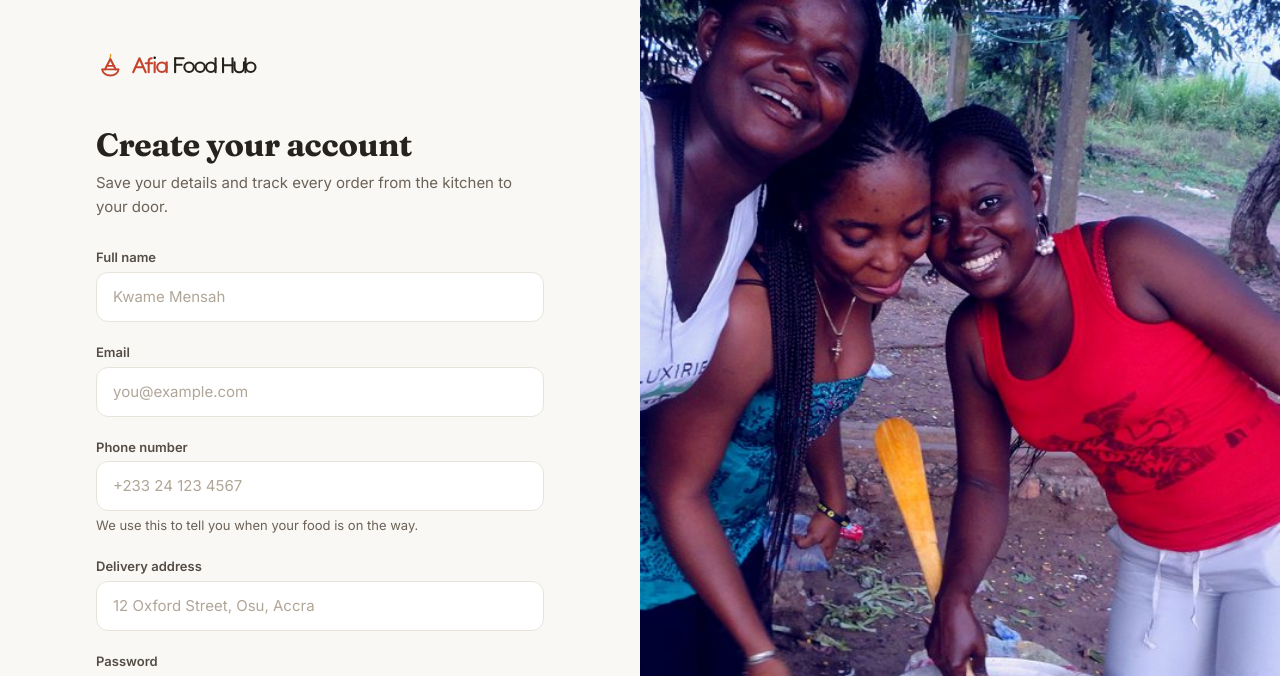
Test case: SignupPage › refuses a password that does not meet the rules
Step 1. Type "Test Customer" into the field labelled "Full name" → (320, 297), box [96,272,544,322]
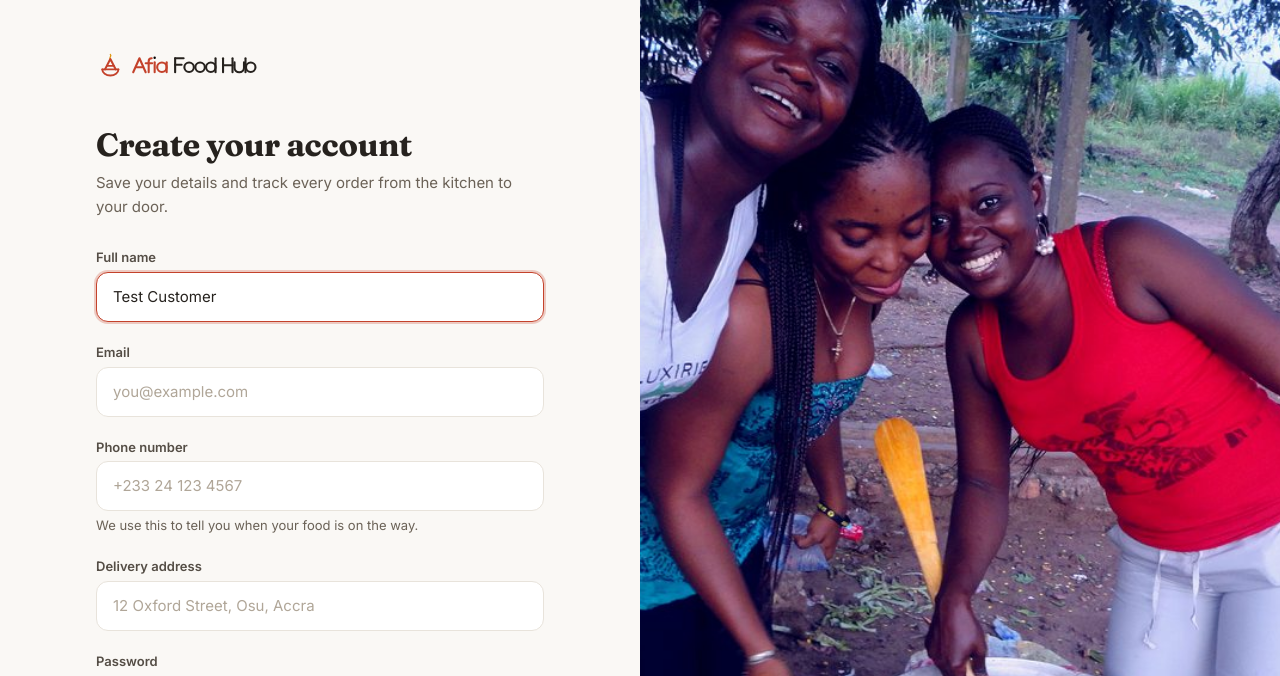
Step 2. Type "customer@example.test" into the field labelled "Email" → (320, 392), box [96,367,544,417]
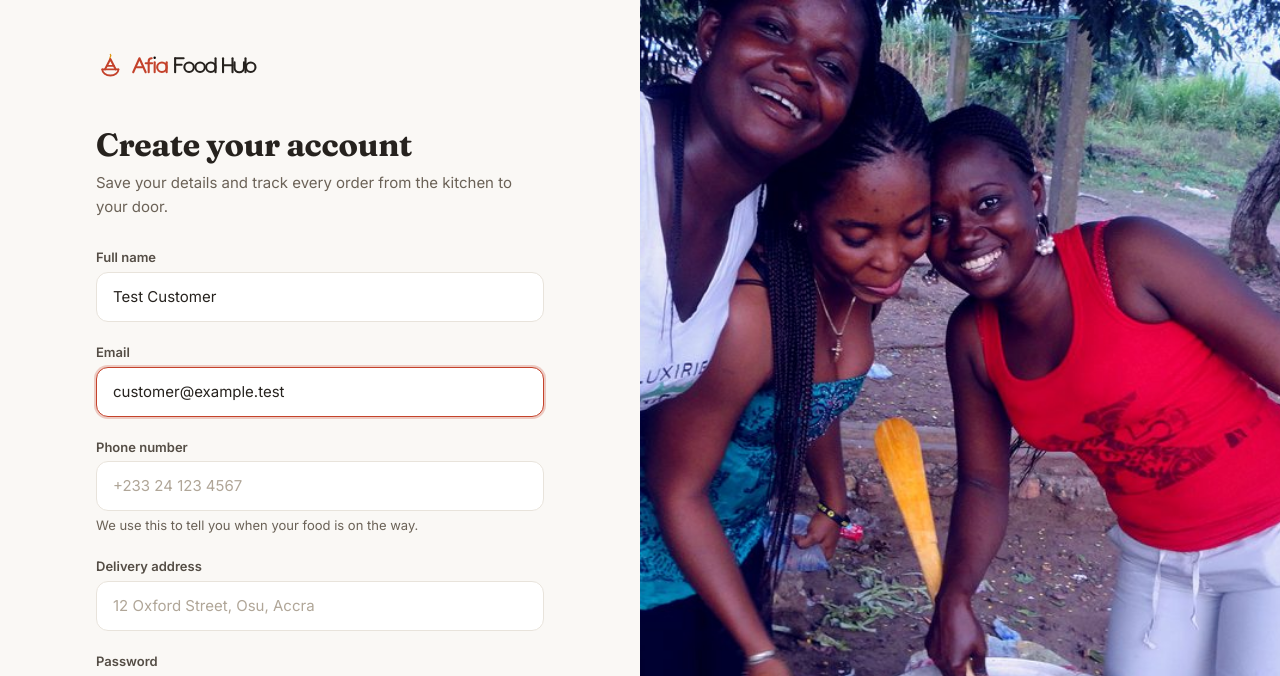
Step 3. Type "0241234567" into the field labelled "Phone number" → (320, 486), box [96,461,544,511]
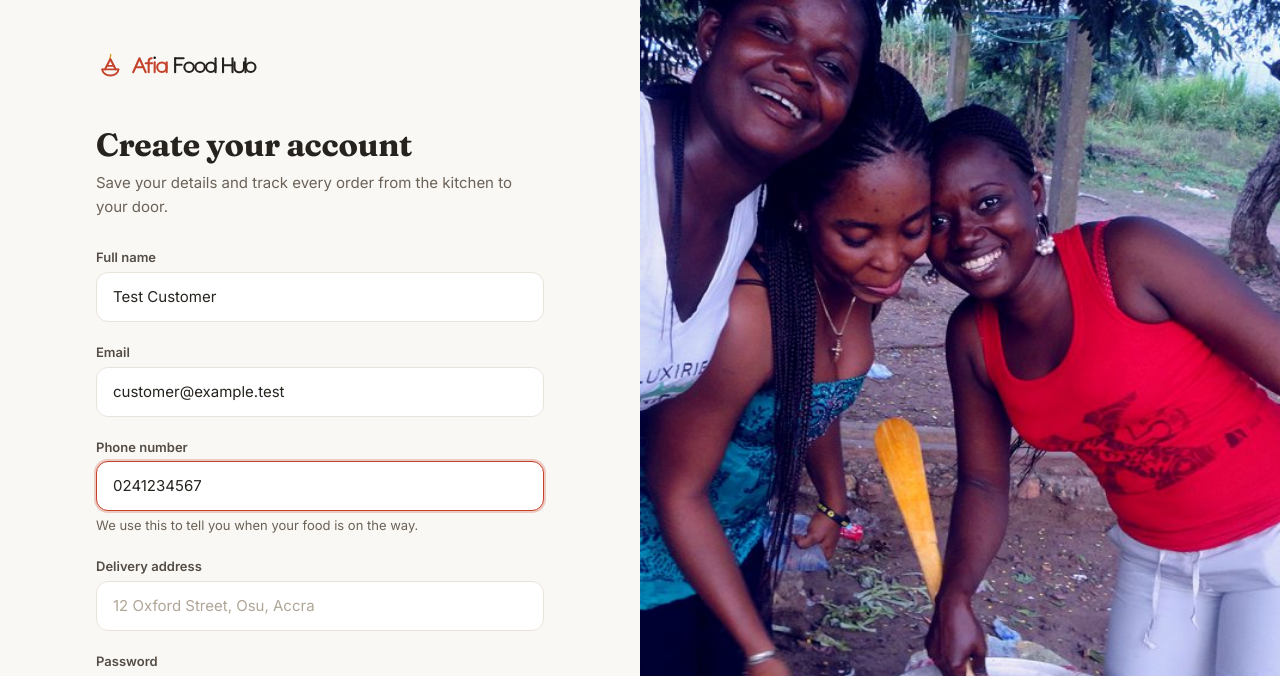
Step 4. Type "12 Oxford Street, Osu" into the field labelled "Delivery address" → (320, 606), box [96,581,544,631]
(page scrolled)
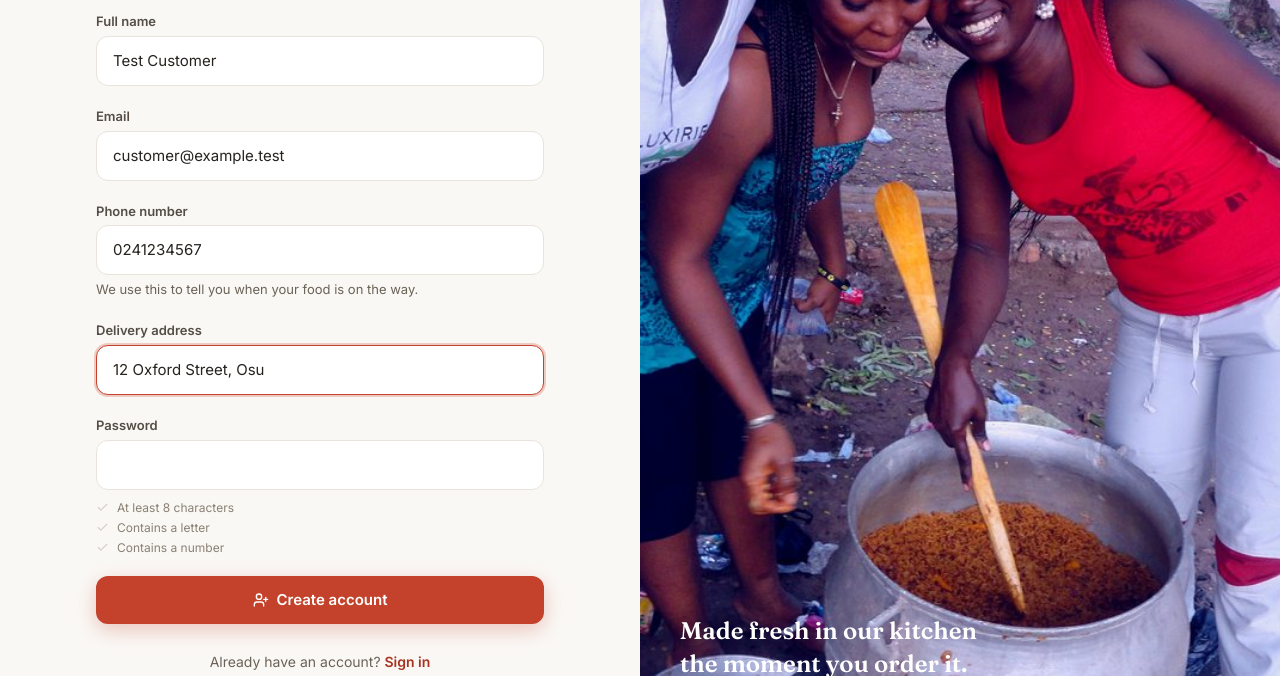
Step 5. Type "short" into the password field labelled "Password" → (320, 465), box [96,440,544,490]
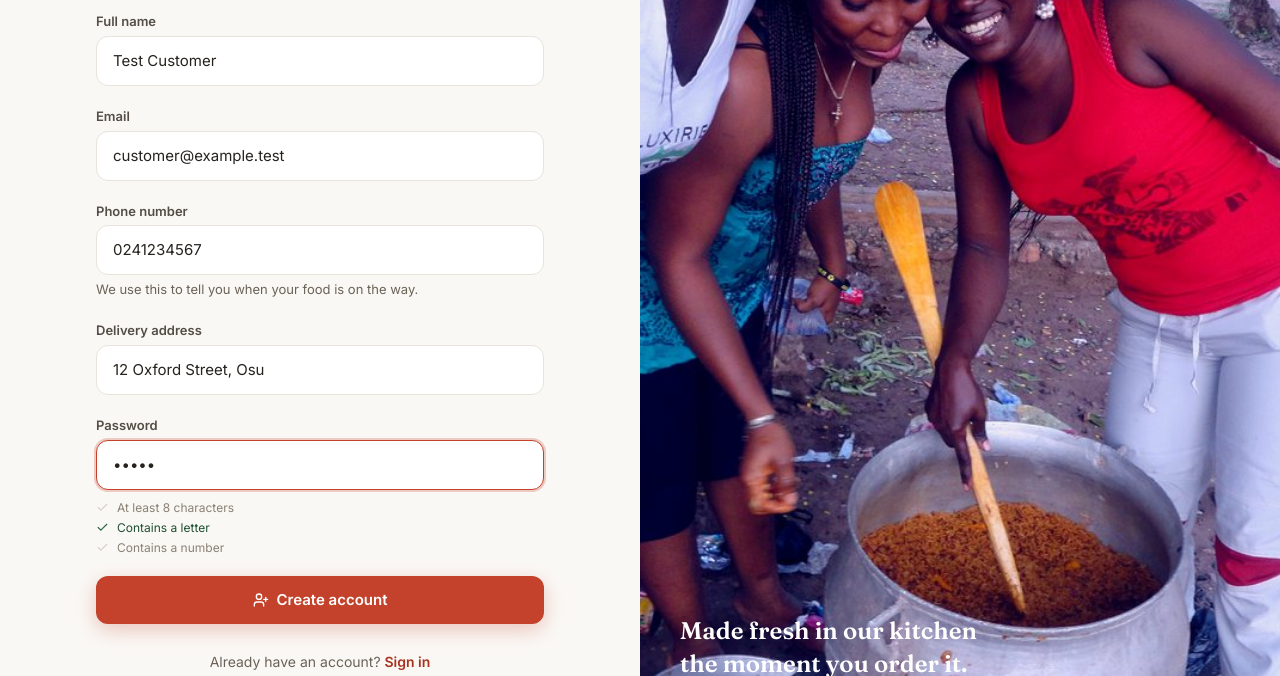
Step 6. Click the button "Create account" → (320, 600), box [96,576,544,624]
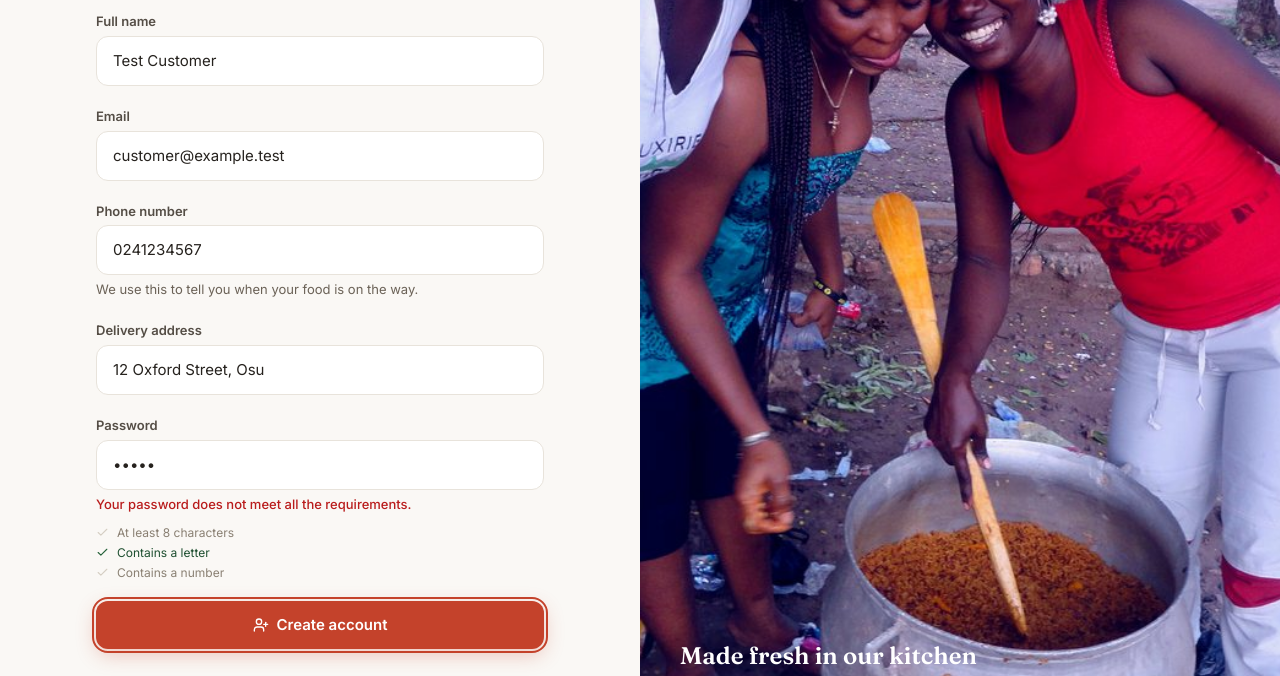
Now the text "Your password does not meet all the requirements." is shown, box [96,496,412,512]
